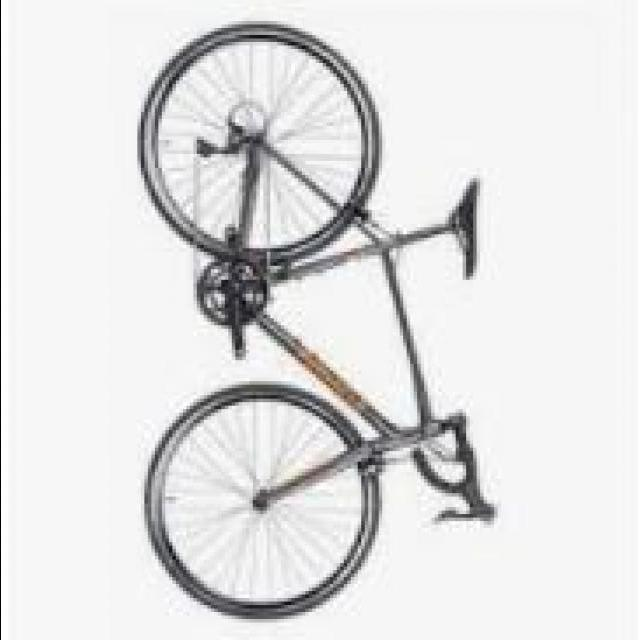bicycle: (158, 33, 490, 589)
